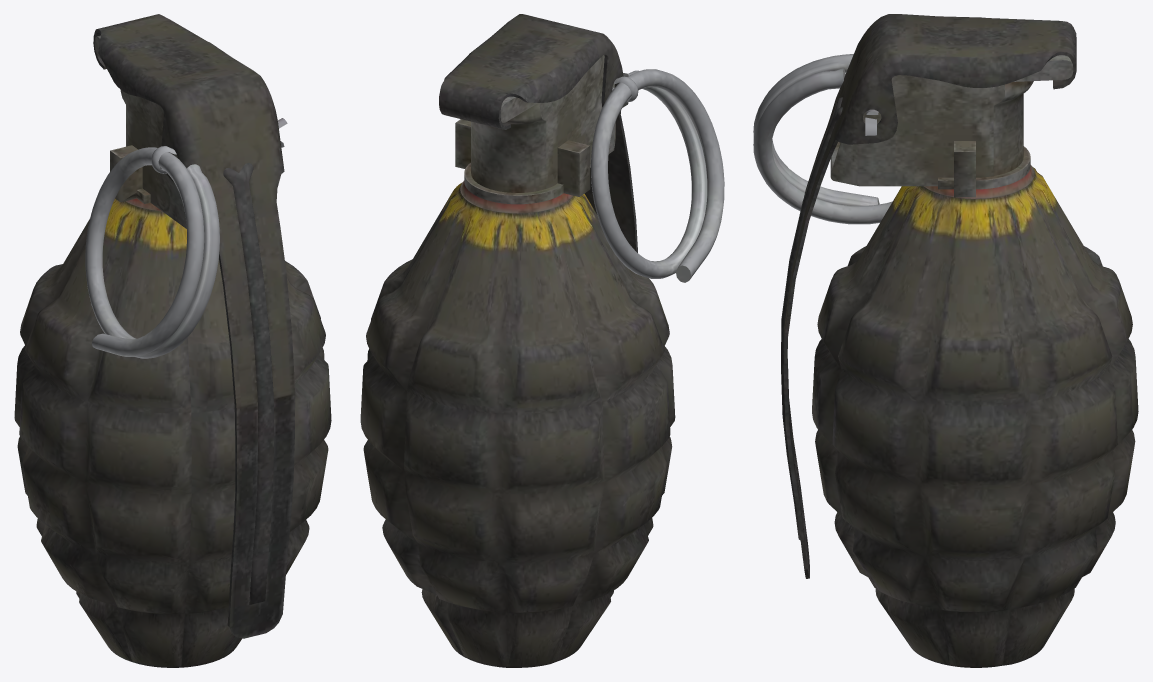
The model's file is frag.glb.
The picture shows the model from 3 angles, left to right: view 1: azimuth 30°, elevation 25°; view 2: azimuth 150°, elevation 25°; view 3: azimuth 270°, elevation 25°; orthographic projection. The views are drawn at different scales.
Parts seen in each view (by area): view 1: defaultMaterial_4, defaultMaterial_3, defaultMaterial_1, defaultMaterial; view 2: defaultMaterial_4, defaultMaterial_3, defaultMaterial, defaultMaterial_1; view 3: defaultMaterial_4, defaultMaterial_3, defaultMaterial, defaultMaterial_1.
Boxes of the visible parts, x1=… form: defaultMaterial_4: x1=14, y1=198, x2=331, y2=667; defaultMaterial_3: x1=93, y1=14, x2=295, y2=638; defaultMaterial_1: x1=85, y1=147, x2=219, y2=358; defaultMaterial: x1=94, y1=35, x2=186, y2=228; defaultMaterial_4: x1=360, y1=180, x2=675, y2=667; defaultMaterial_3: x1=439, y1=14, x2=637, y2=252; defaultMaterial: x1=455, y1=55, x2=615, y2=204; defaultMaterial_1: x1=590, y1=69, x2=724, y2=282; defaultMaterial_4: x1=812, y1=165, x2=1138, y2=667; defaultMaterial_3: x1=781, y1=14, x2=1076, y2=578; defaultMaterial: x1=830, y1=55, x2=1073, y2=197; defaultMaterial_1: x1=753, y1=54, x2=892, y2=224.
Bounding box in the file's own units: 0.9787 × 2 × 1.15.
Materials: 1 (1 with a texture image).
